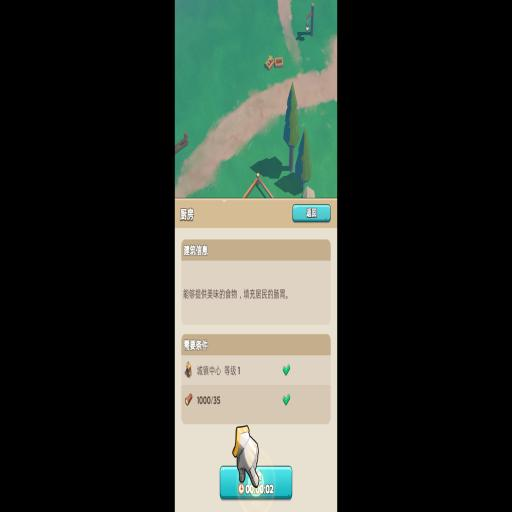newcomer_hand: (233, 426, 259, 487)
